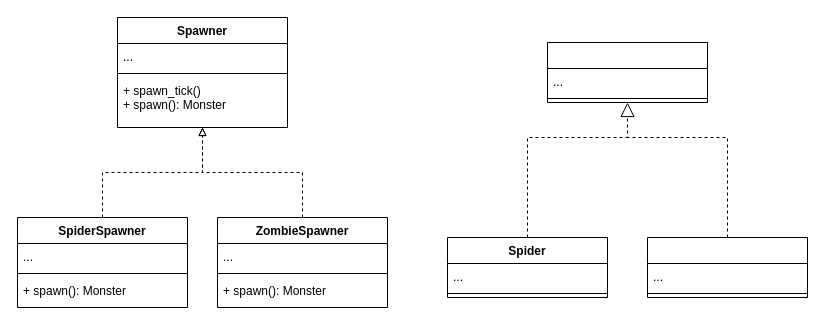
The diagram is 825 pixels wide and 328 high, and some of its shapes have lost their labels. The box of each missing label's shape, as (x1, y1, x2, y2) in pixels:
Monster: (546, 42, 708, 102)
Zombie: (646, 236, 808, 298)
